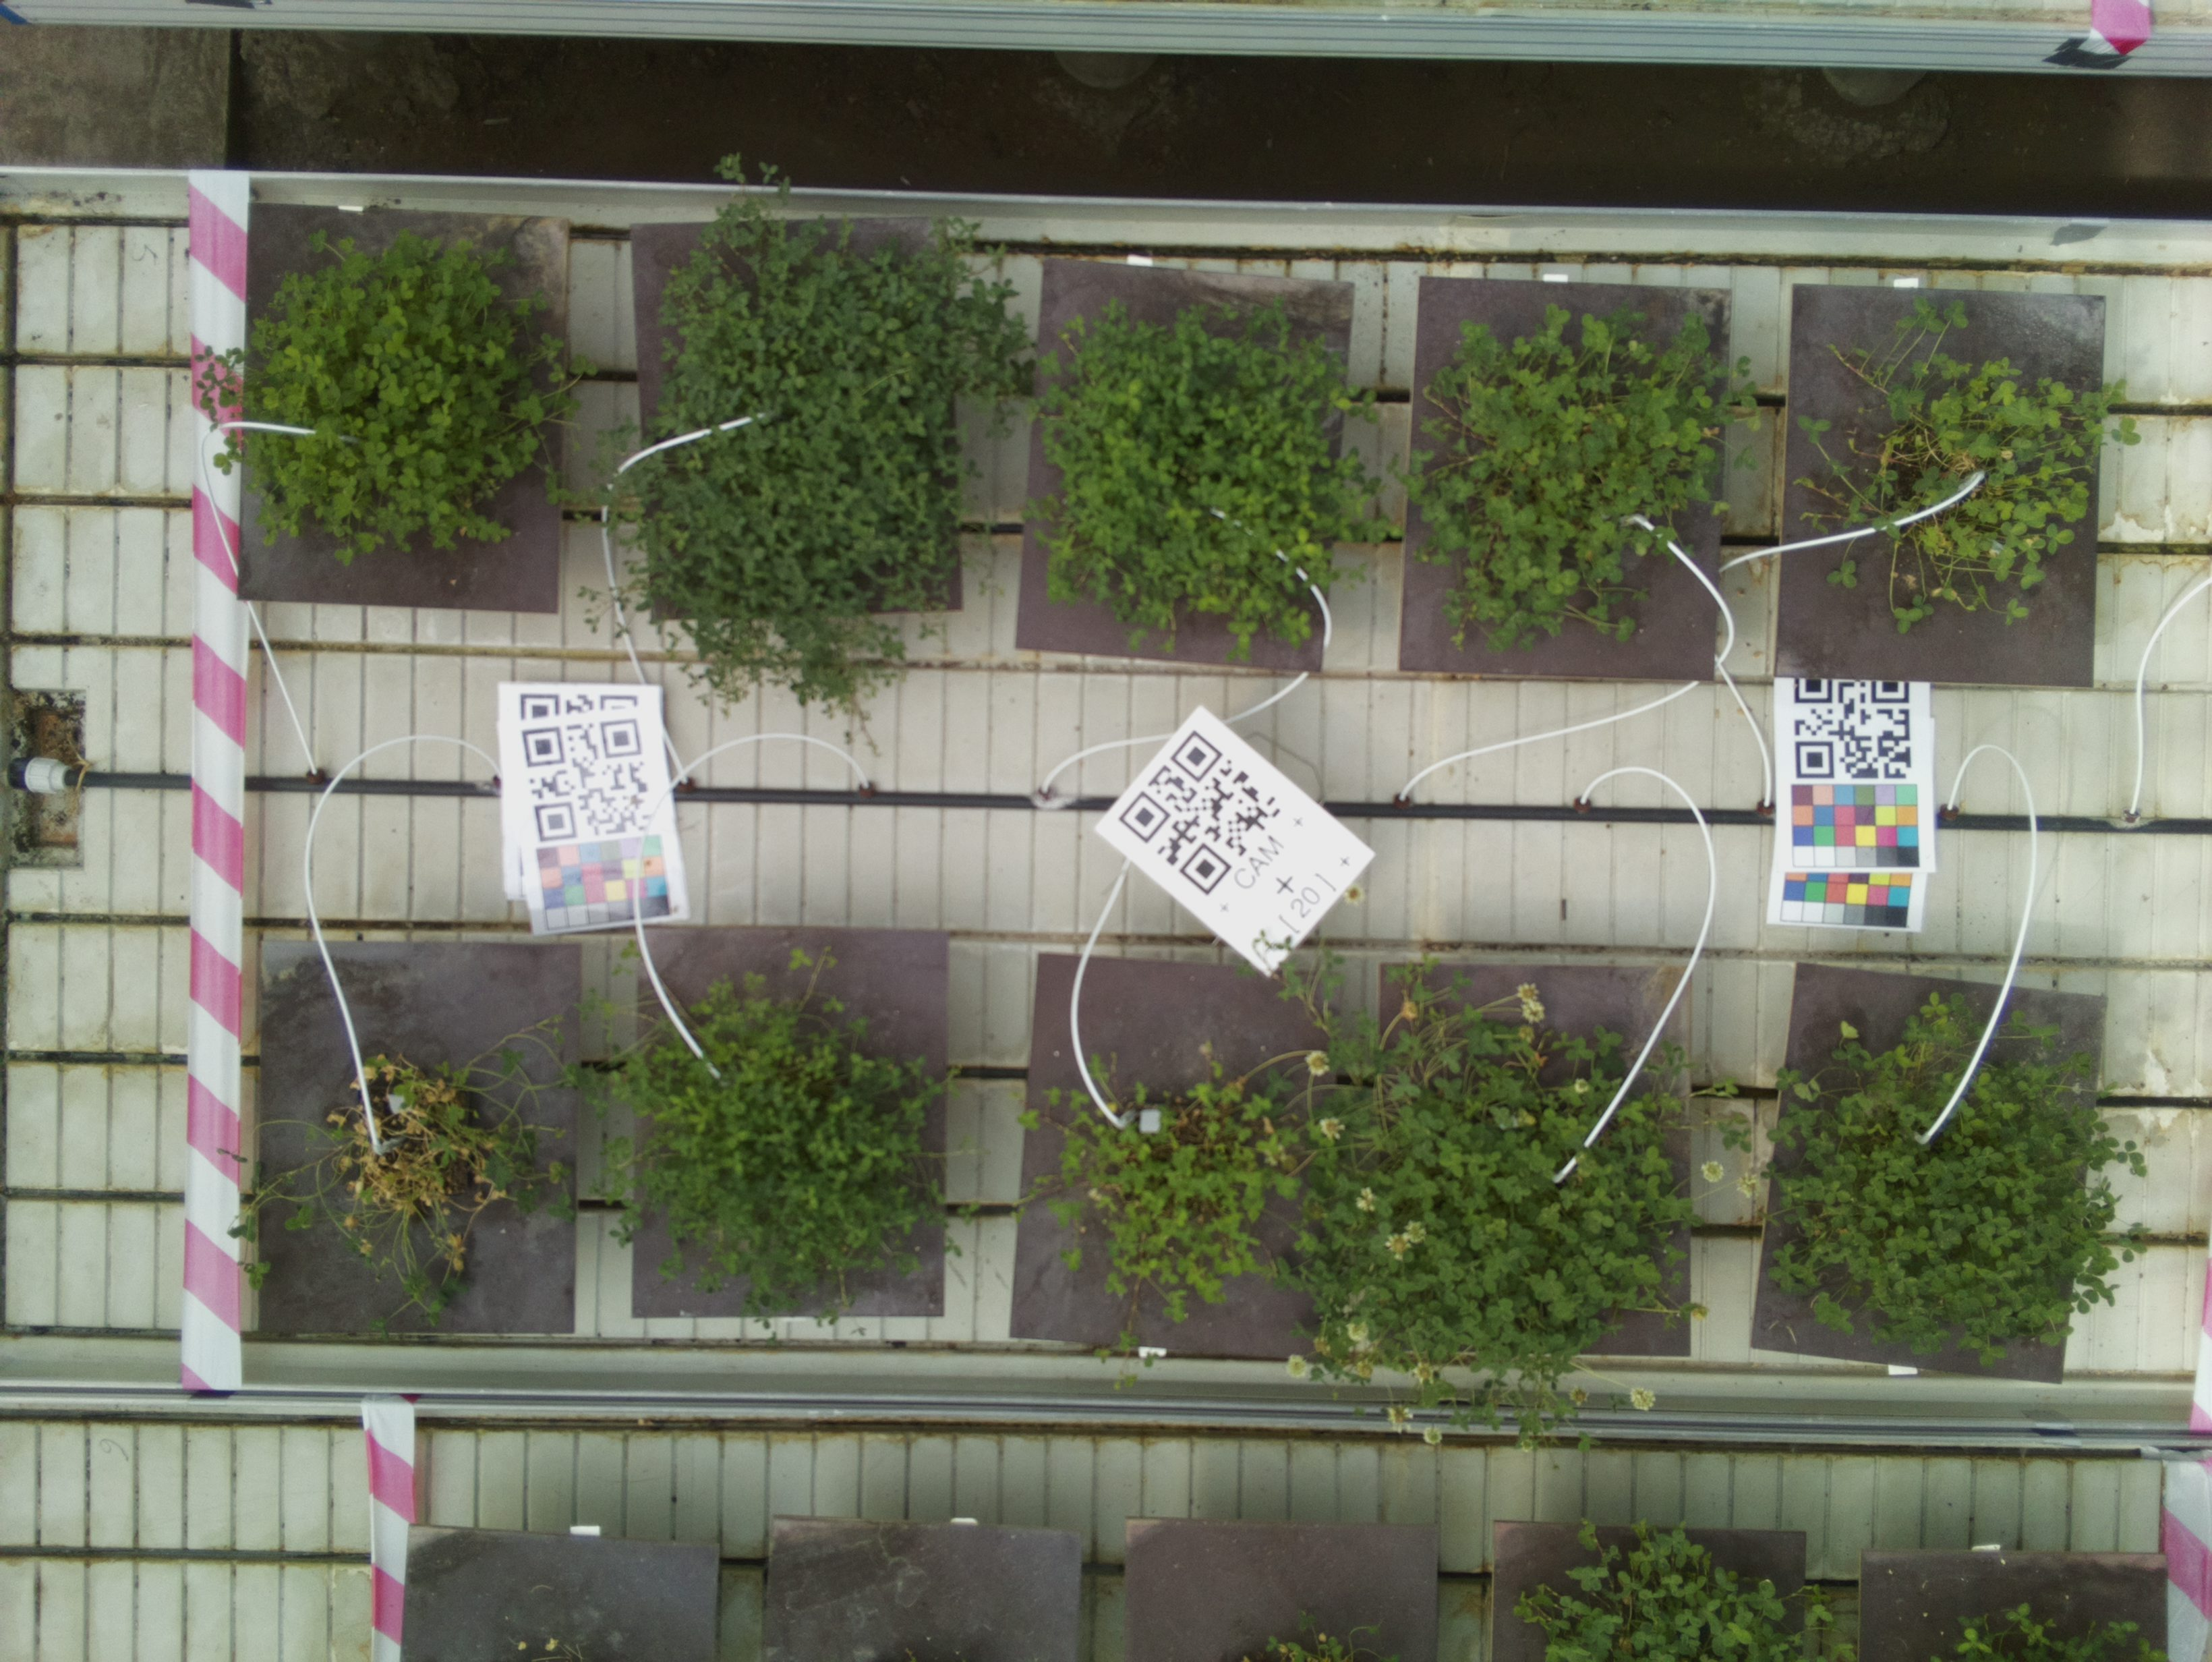POT: (629, 218, 964, 616), (237, 199, 564, 608), (1034, 953, 1348, 1370), (1770, 967, 2079, 1383), (1027, 264, 1337, 676), (1409, 279, 1725, 683), (257, 941, 574, 1339), (1791, 281, 2100, 686), (1376, 964, 1690, 1360), (634, 925, 946, 1320)
QRCODE: (1098, 714, 1386, 958)
QRCOLOR: (501, 686, 686, 924), (1776, 686, 1936, 873)
